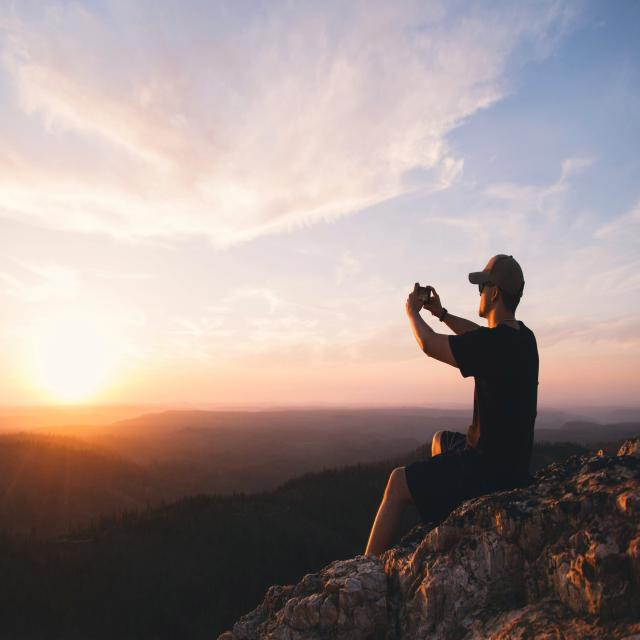adult: (361, 250, 540, 562)
